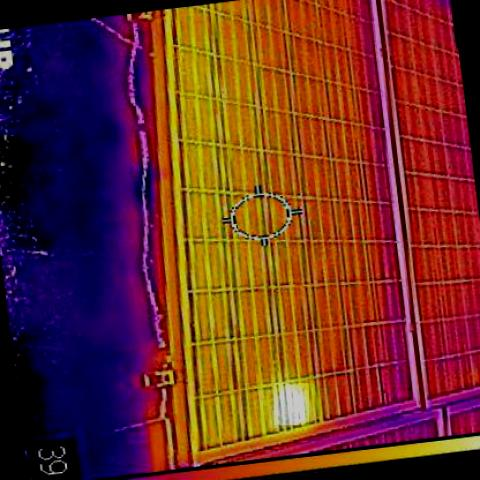fault: (274, 383, 309, 425)
